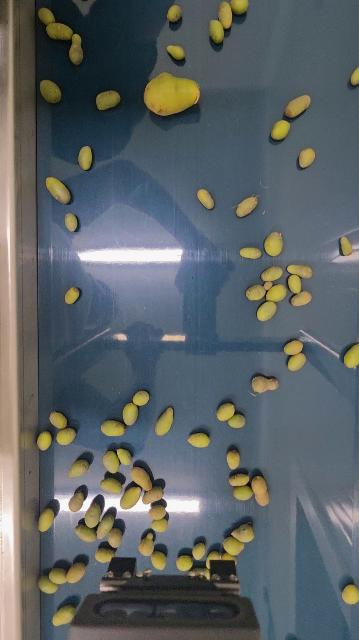Baby Potato: (142, 71, 202, 117), (45, 176, 72, 205), (285, 92, 313, 119), (250, 474, 271, 507), (154, 405, 175, 437), (250, 373, 281, 394), (39, 78, 63, 104), (235, 194, 261, 218), (95, 89, 122, 111), (68, 32, 85, 66), (216, 0, 235, 30), (46, 21, 74, 41), (52, 604, 76, 627), (130, 465, 152, 490), (264, 231, 285, 257), (120, 484, 141, 510), (264, 281, 288, 303), (231, 522, 256, 543), (96, 514, 115, 540), (207, 18, 225, 45), (256, 300, 278, 322), (271, 118, 292, 141), (66, 561, 87, 584), (223, 535, 246, 556), (245, 282, 269, 302), (101, 418, 126, 437), (343, 340, 359, 369), (287, 262, 314, 279), (85, 501, 102, 527), (68, 458, 89, 479), (102, 450, 120, 474), (187, 431, 211, 449), (100, 477, 124, 495), (260, 265, 284, 283), (138, 532, 155, 557), (78, 144, 93, 172), (38, 507, 54, 533), (197, 187, 215, 210), (298, 146, 316, 169), (342, 582, 359, 606), (216, 401, 236, 421), (122, 402, 138, 427), (75, 524, 97, 542), (290, 290, 313, 307), (287, 351, 306, 371), (38, 576, 58, 595), (56, 427, 76, 446), (143, 485, 163, 504), (284, 338, 305, 356), (107, 526, 124, 548), (225, 448, 241, 471), (68, 490, 84, 513), (48, 410, 67, 429), (287, 272, 304, 293), (232, 484, 253, 501), (228, 472, 251, 487), (166, 43, 186, 60), (166, 3, 183, 23), (37, 430, 53, 451), (339, 235, 354, 257), (38, 7, 56, 25), (151, 551, 168, 570), (64, 286, 81, 305), (239, 246, 262, 260), (230, 0, 250, 16), (64, 212, 79, 233), (228, 412, 246, 429), (176, 554, 194, 571), (133, 389, 151, 406), (48, 567, 66, 584), (116, 447, 132, 466), (94, 548, 114, 563), (192, 541, 206, 562), (148, 503, 166, 519), (349, 61, 359, 87), (152, 518, 168, 532)
